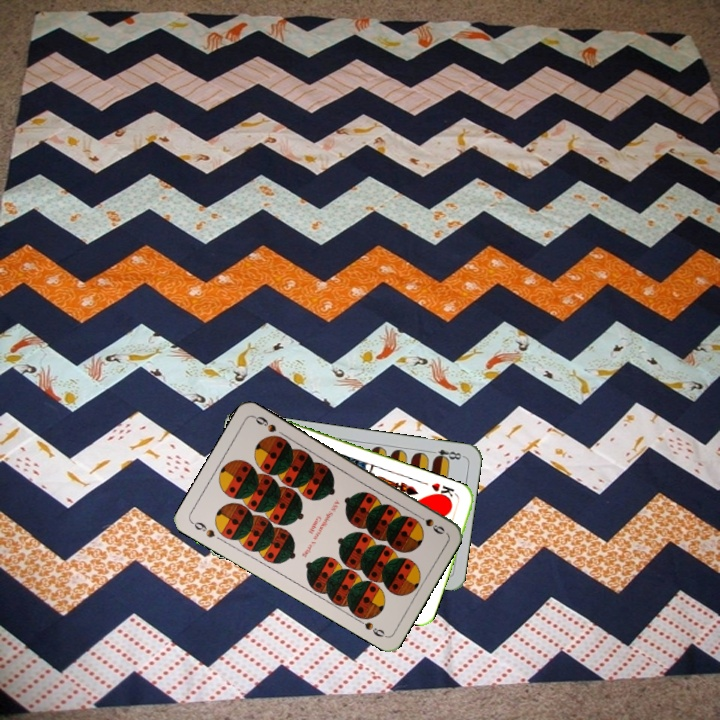E8: (426, 445, 466, 464)
HK: (427, 479, 461, 504)
S9: (411, 509, 447, 537), (188, 518, 218, 540)
